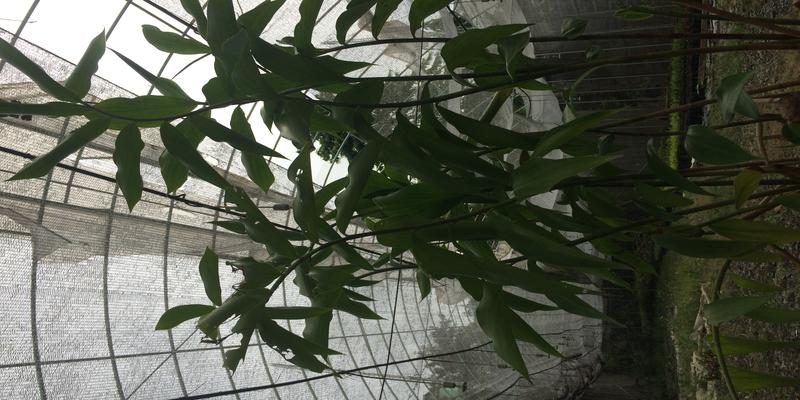Insulin: (119, 41, 762, 297)
